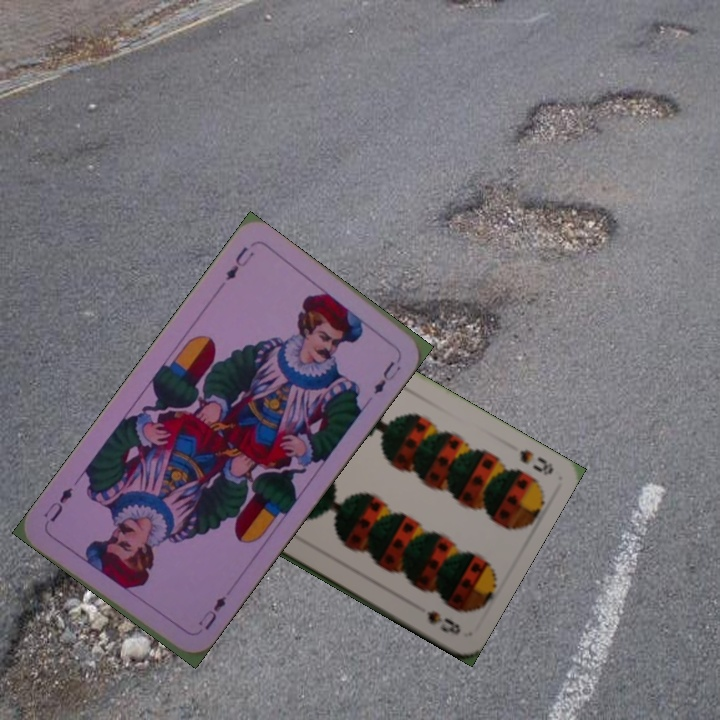EU: (221, 242, 257, 284), (194, 592, 229, 633)
S8: (516, 445, 556, 478)
